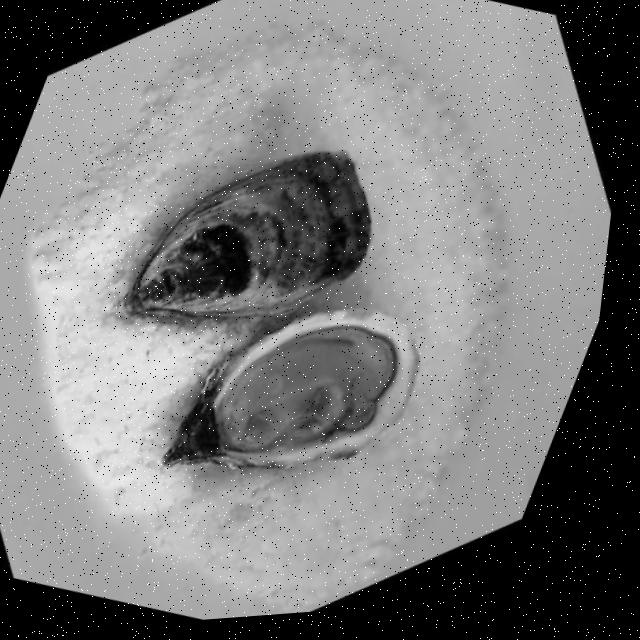Oyster-Indeterminate: (119, 151, 371, 324)
Oyster-Open: (162, 310, 418, 469)
